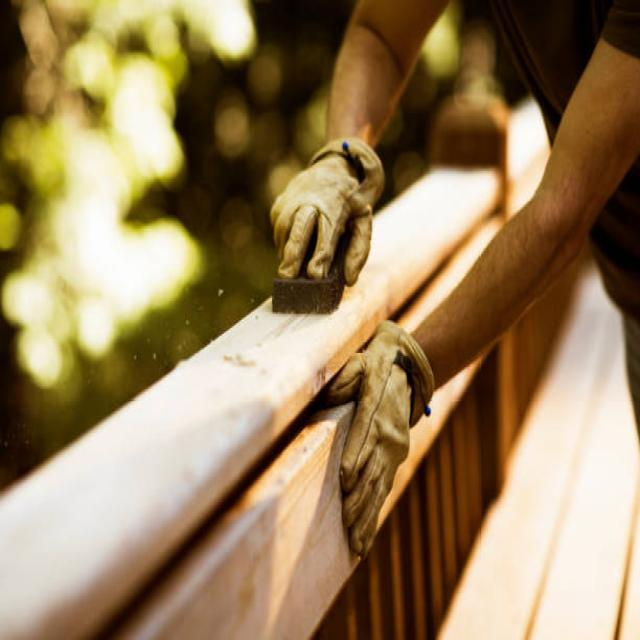gloves: (320, 318, 433, 556), (272, 138, 385, 284)
